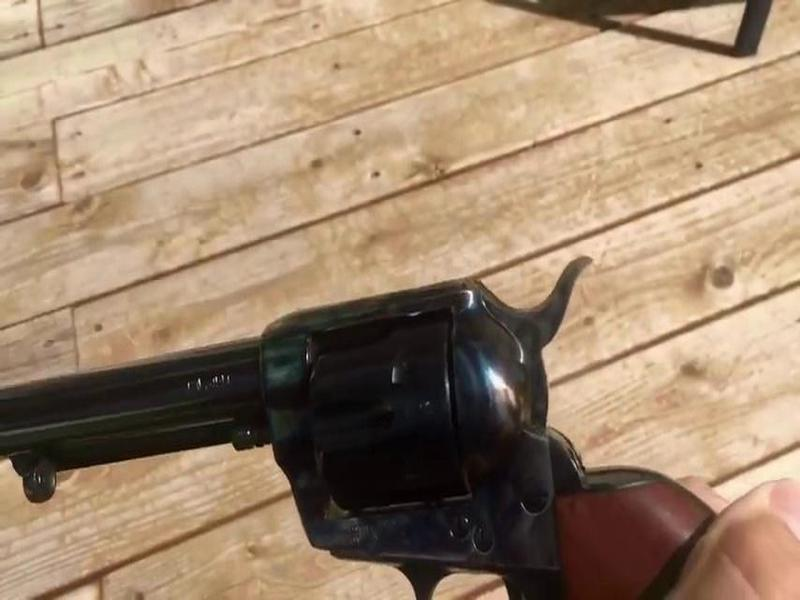Revolver: (7, 275, 607, 578)
